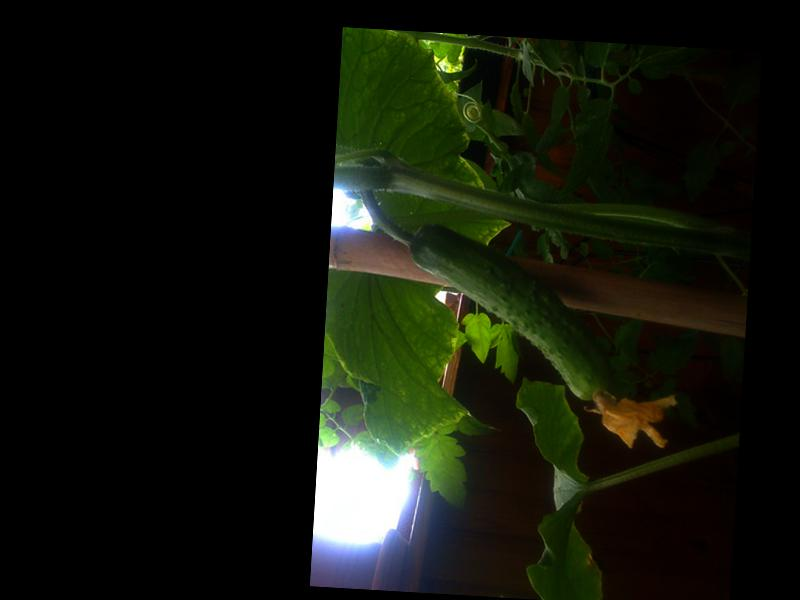Cucumber: (399, 224, 687, 453)
